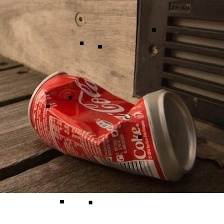can: (25, 69, 203, 184)
